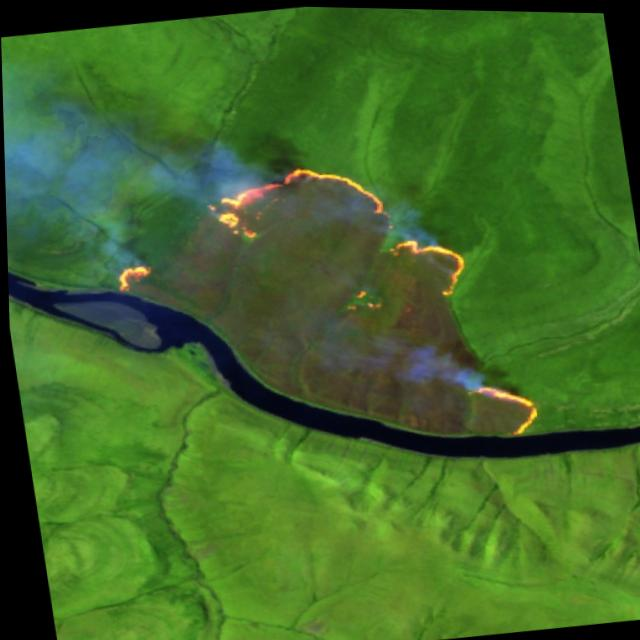fire: (84, 131, 557, 482)
